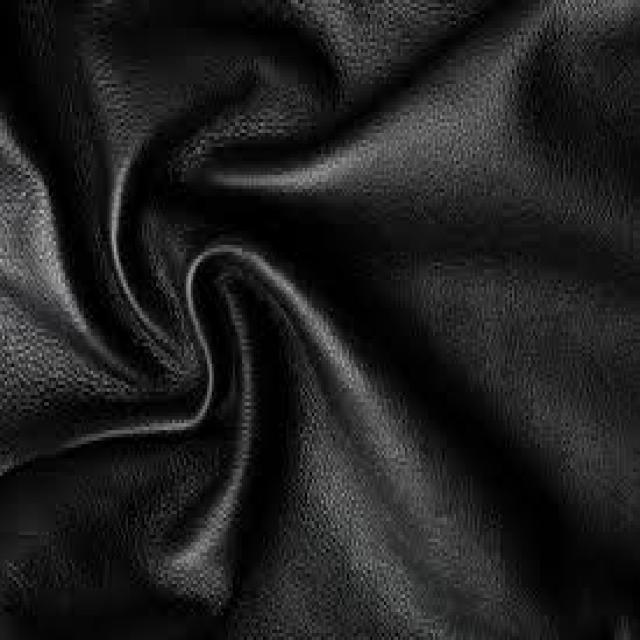Crease: (315, 83, 519, 204), (348, 370, 465, 554), (154, 478, 267, 602)
